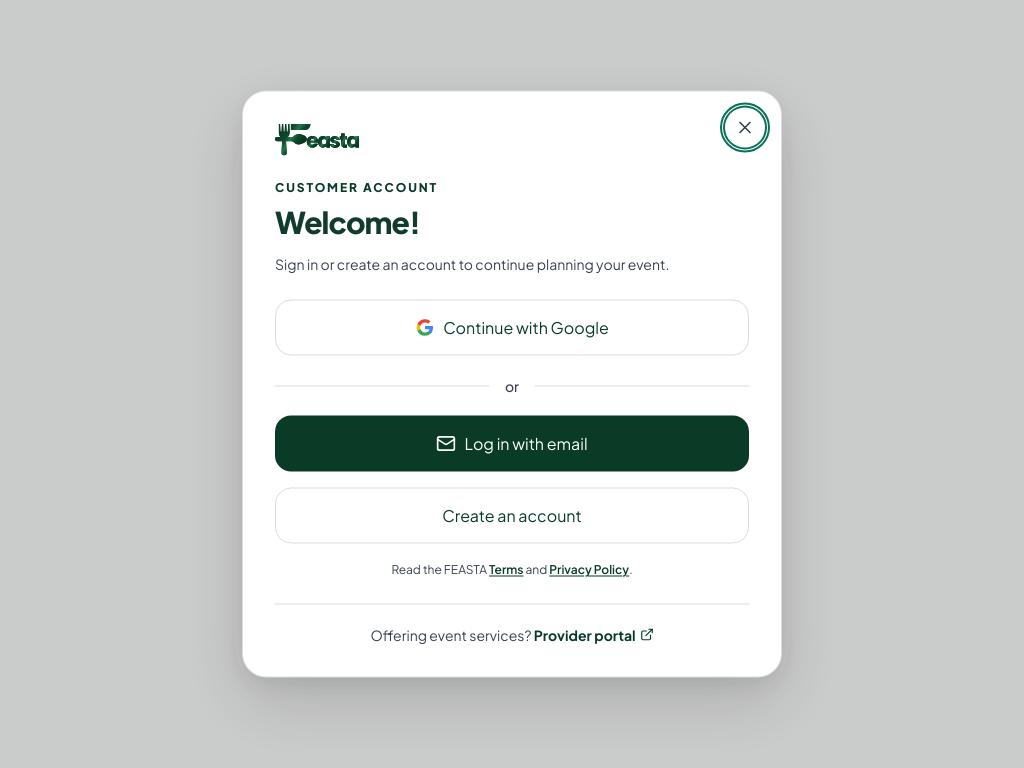
modal Google sign-in requires explicit consent after backend rejection
Click the button "Continue with Google" at [512, 328], box [275, 300, 749, 356]
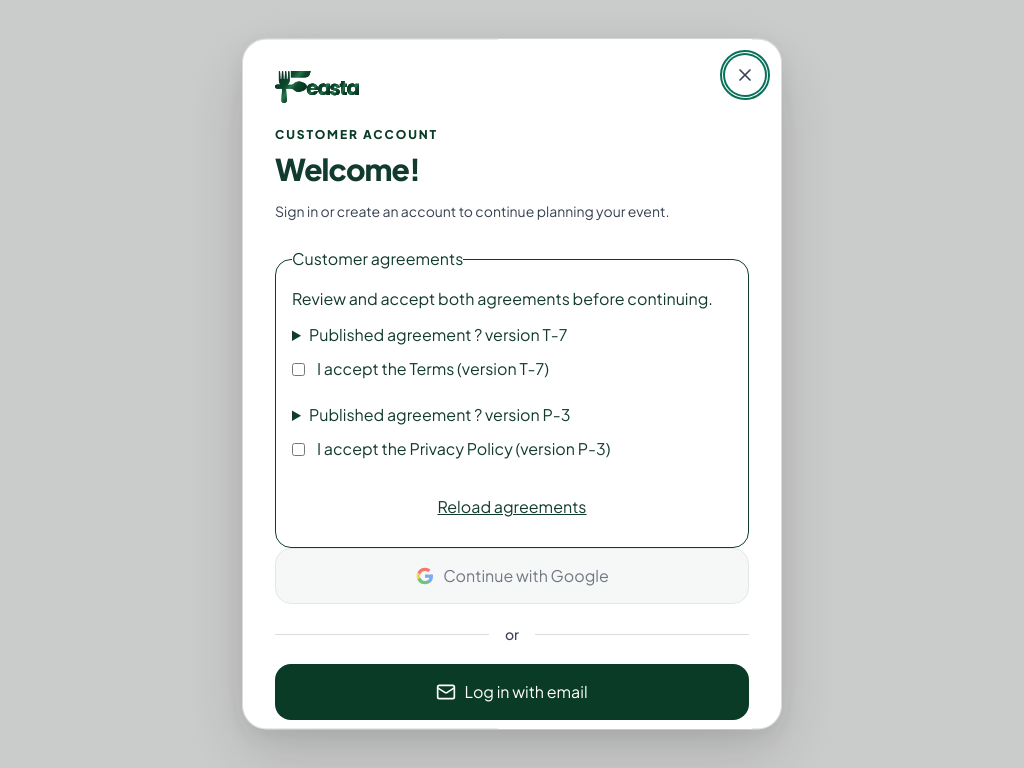
Expected: the button "Continue with Google" is disabled, [275, 548, 749, 604]
Click the checkbox labelled "I accept the Terms (version T-7)" at [298, 369], box [292, 363, 305, 376]
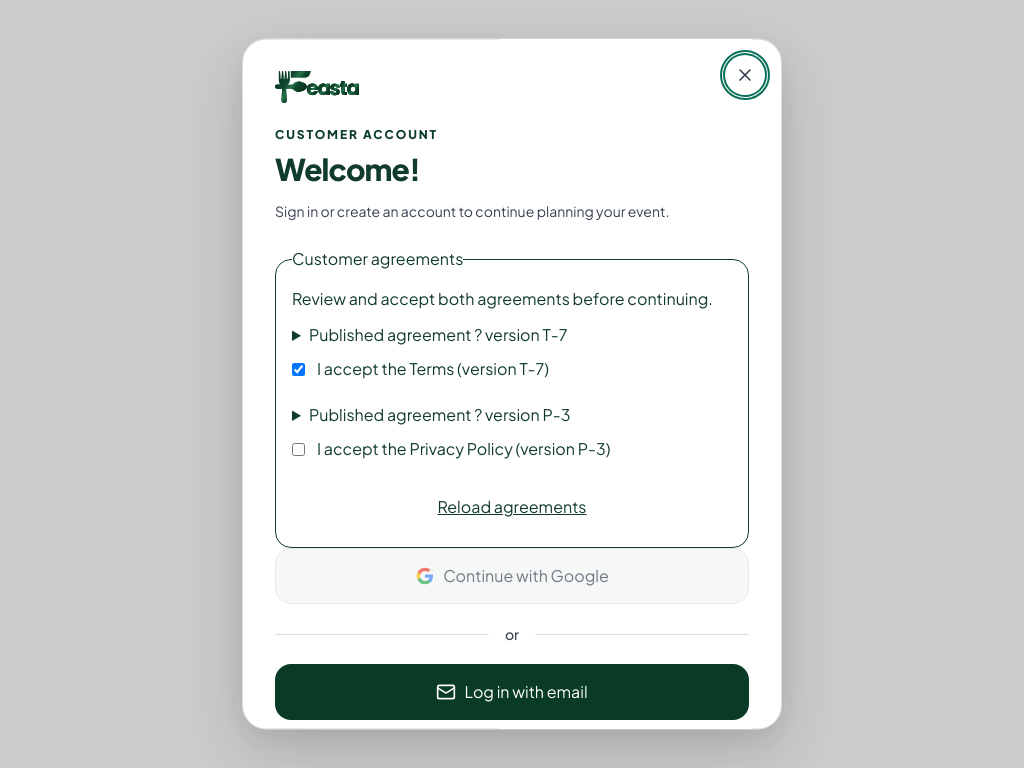
Click the checkbox labelled "I accept the Privacy Policy (version P-3)" at [298, 449], box [292, 443, 305, 456]
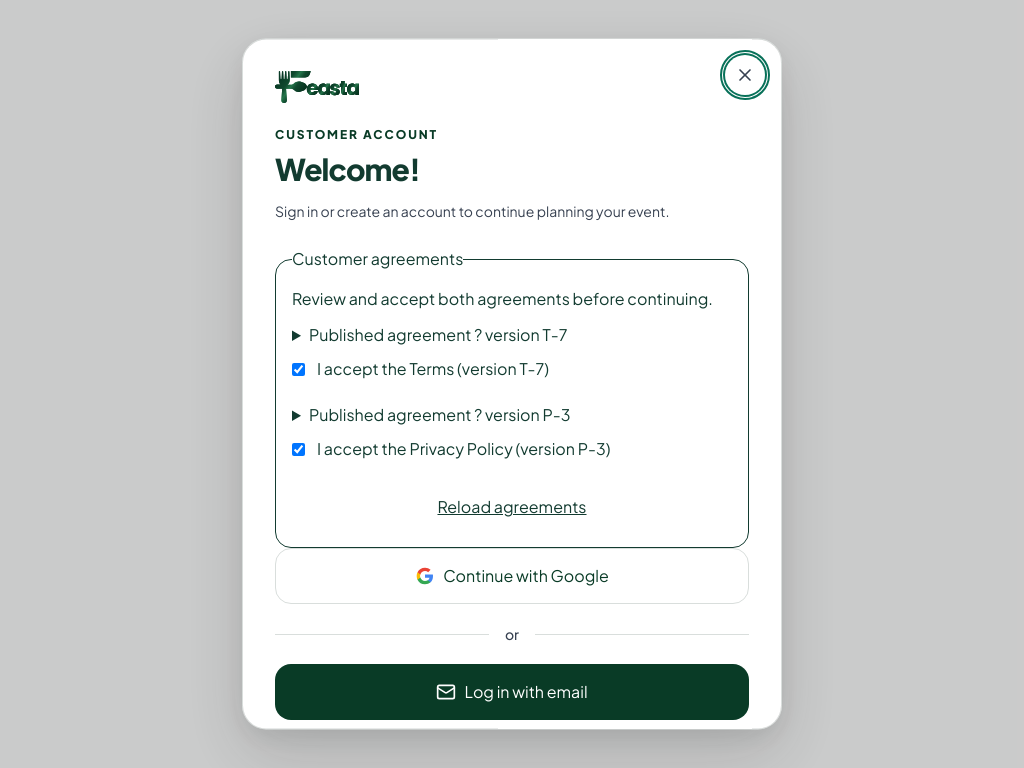
Expected: the button "Continue with Google" is enabled, [275, 548, 749, 604]
